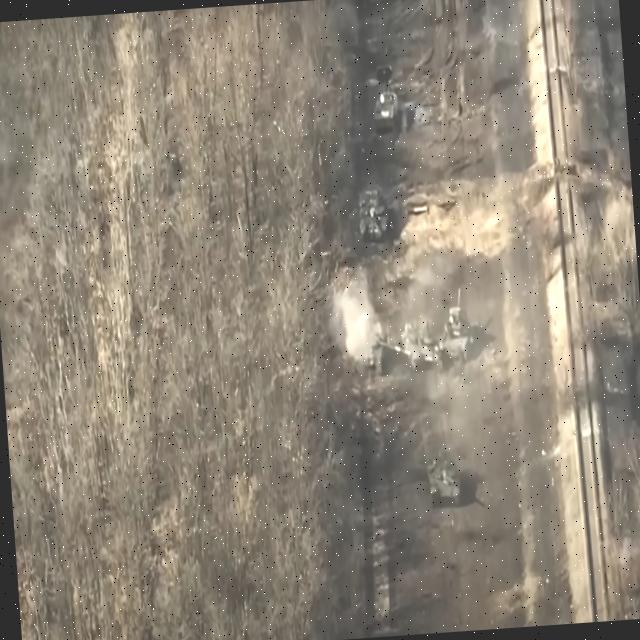AIFV: (373, 88, 401, 131)
MBT: (351, 315, 407, 373), (439, 290, 477, 365), (402, 318, 441, 373), (431, 452, 464, 508)
